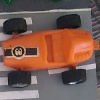naranja: (2, 15, 98, 88)
